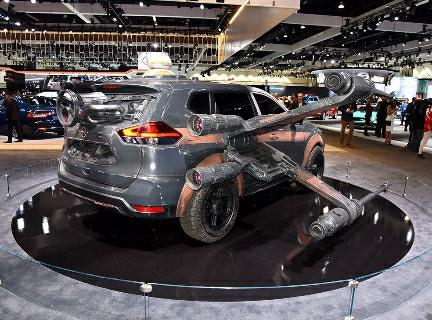日产-Rogue: (47, 69, 334, 243)
